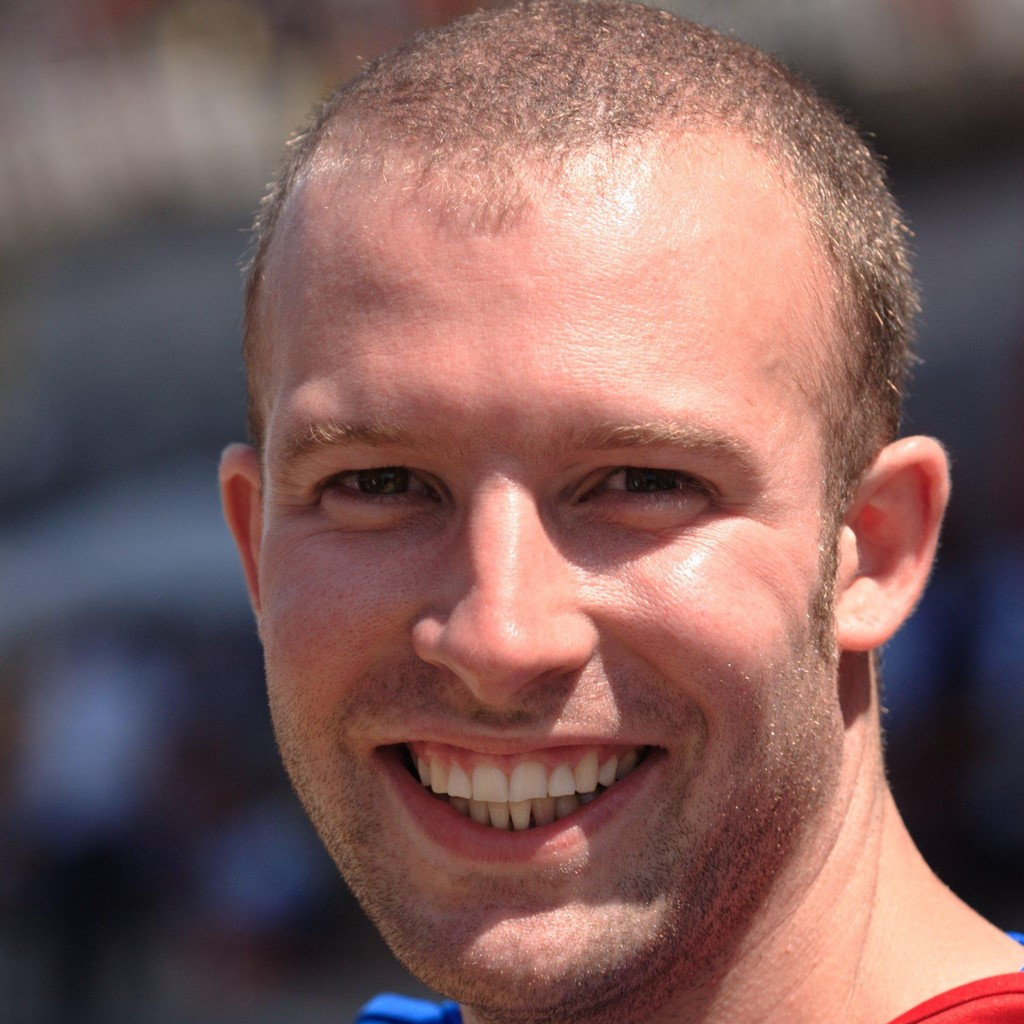sin_mascara: (235, 66, 941, 1012)
